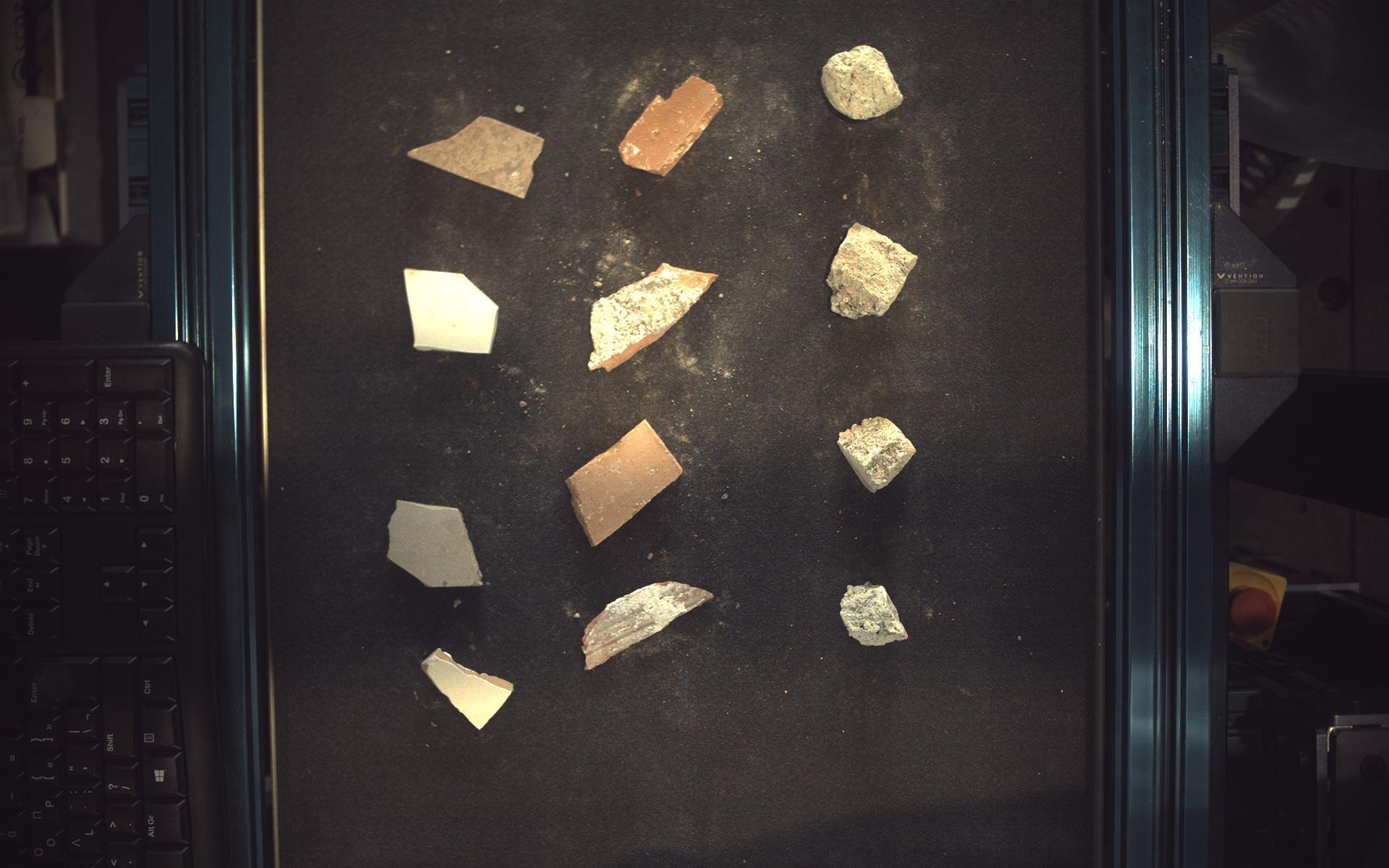brick: (566, 420, 682, 547), (589, 263, 717, 370), (583, 582, 715, 671), (619, 75, 724, 175)
concrete: (828, 222, 919, 319), (823, 43, 905, 119), (839, 417, 917, 492), (842, 584, 910, 647)
tile: (407, 115, 544, 197), (388, 501, 483, 588), (404, 268, 498, 354), (422, 650, 514, 731)
